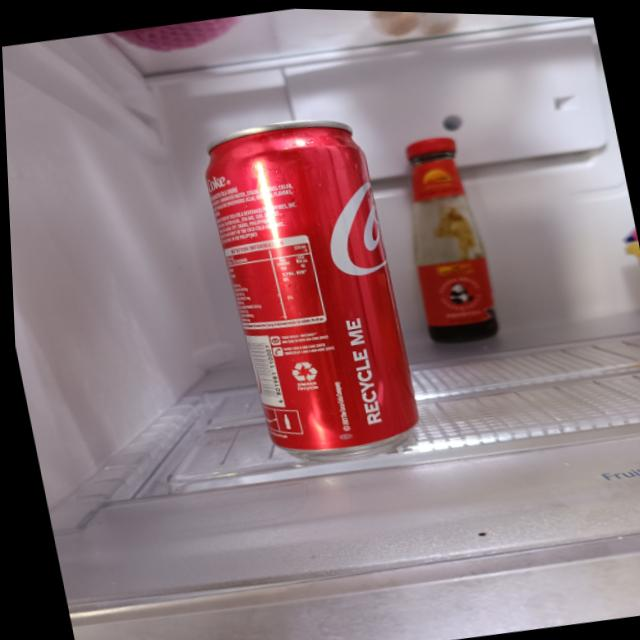coke: (205, 112, 415, 462)
